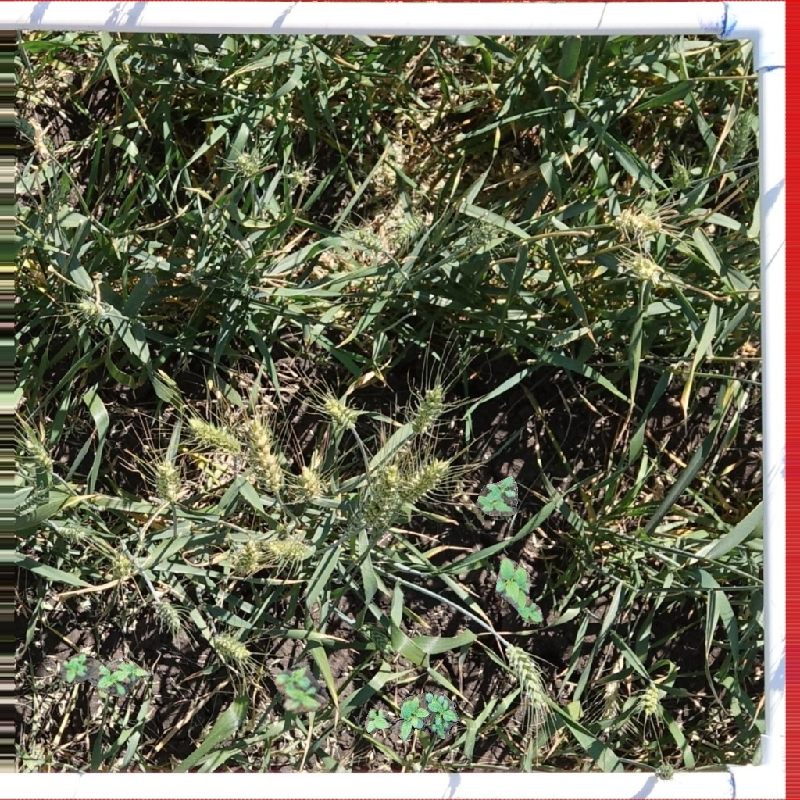spikelet: (502, 639, 551, 707), (244, 421, 286, 492), (407, 378, 450, 434), (401, 455, 451, 502), (184, 414, 243, 453), (363, 468, 401, 527), (723, 108, 754, 170), (208, 627, 253, 662), (622, 252, 666, 286), (151, 457, 184, 502), (321, 392, 361, 429), (268, 532, 317, 562), (224, 537, 262, 575), (291, 463, 327, 503), (615, 206, 661, 235), (398, 207, 428, 249), (467, 215, 502, 250), (51, 514, 94, 542), (22, 435, 54, 470), (152, 596, 183, 630), (638, 680, 667, 715), (76, 293, 109, 321), (666, 158, 693, 191), (233, 148, 264, 176)
weed: (50, 640, 146, 699), (264, 655, 337, 729), (365, 691, 460, 741), (490, 558, 547, 628), (476, 475, 518, 516)
